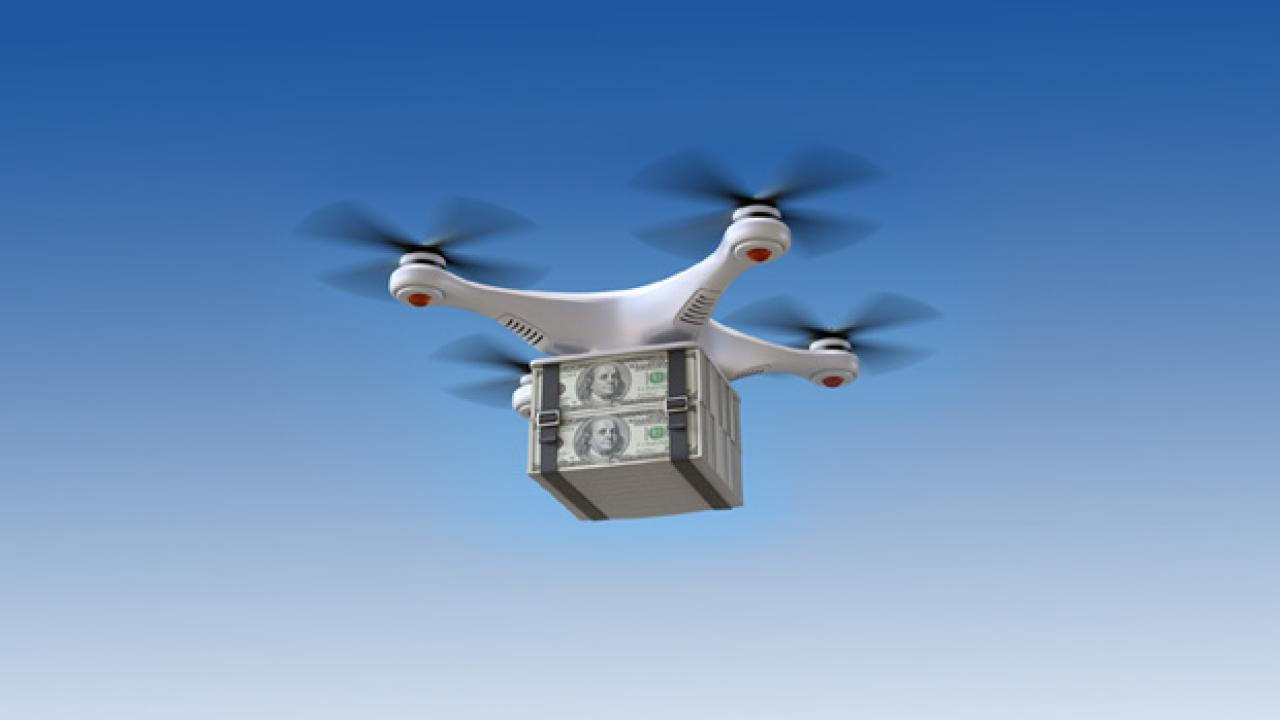Drone: (280, 126, 966, 446)
